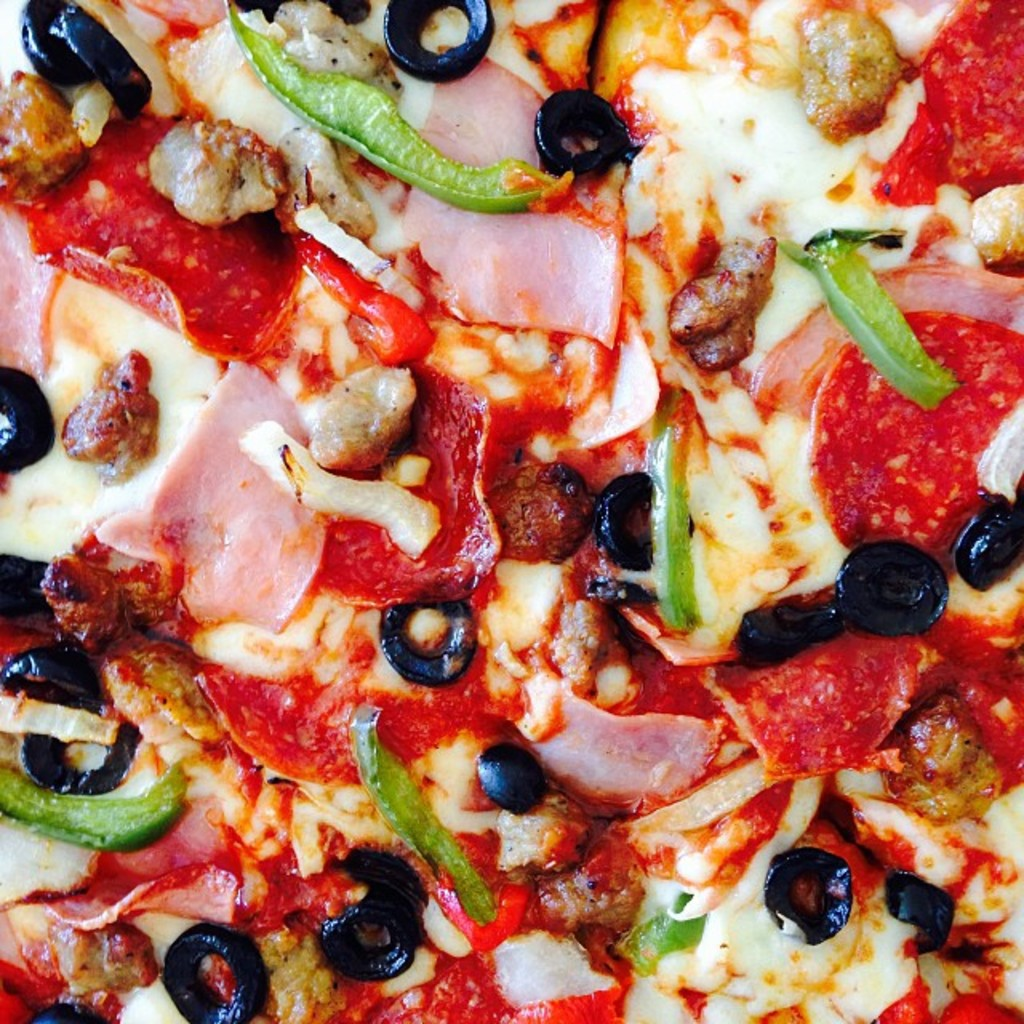Pizza: (0, 0, 1024, 1008)
